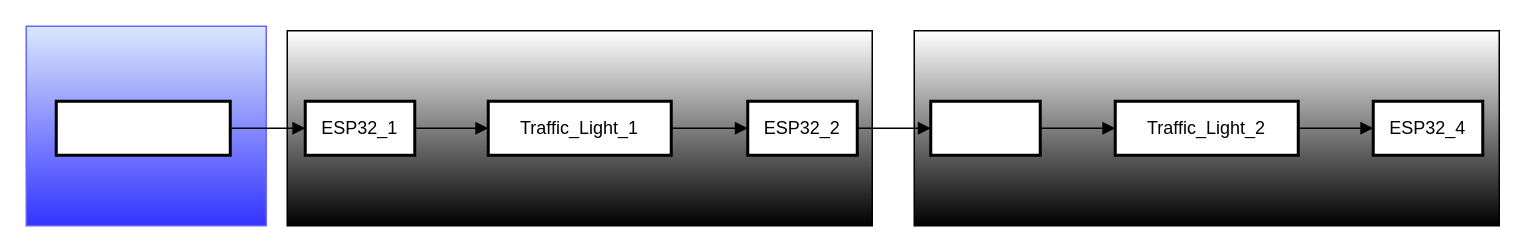
This 1526x252 diagram has some shape labels left out. The box of each missing label's shape, as (x1, y1, x2, y2) in pixels:
Arduino_Nano: (54, 99, 231, 156)
ESP32_3: (928, 99, 1041, 156)
